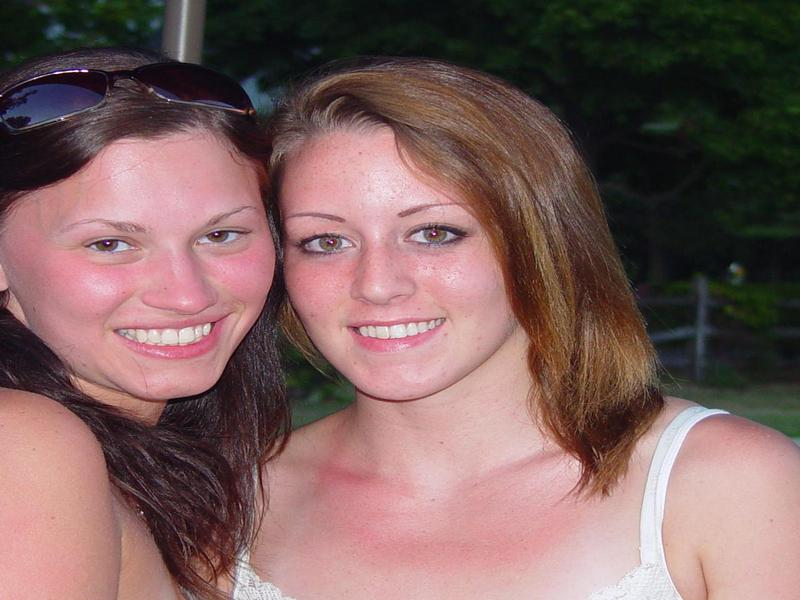person: (251, 57, 798, 600), (1, 45, 279, 600)
